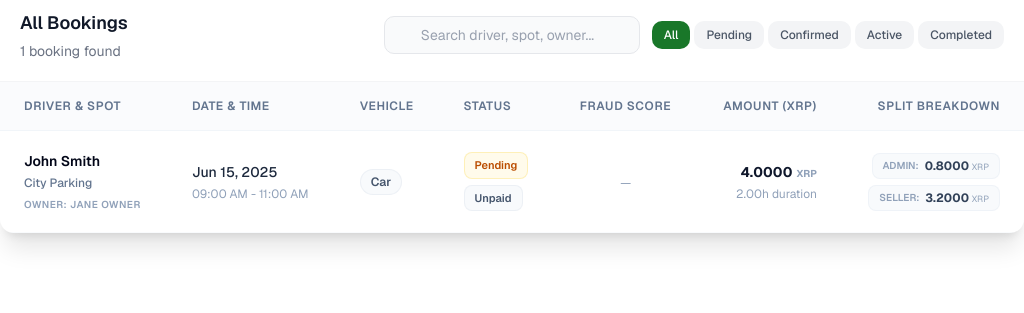
Test case: BookingTable Component › Empty State › shows filter message when search active
Expected: the text "John Smith" is shown, [24, 152, 100, 170]
Type "nonexistent999" into the field with placeholder "Search driver, spot, owner..." at (512, 35), box [384, 16, 640, 54]
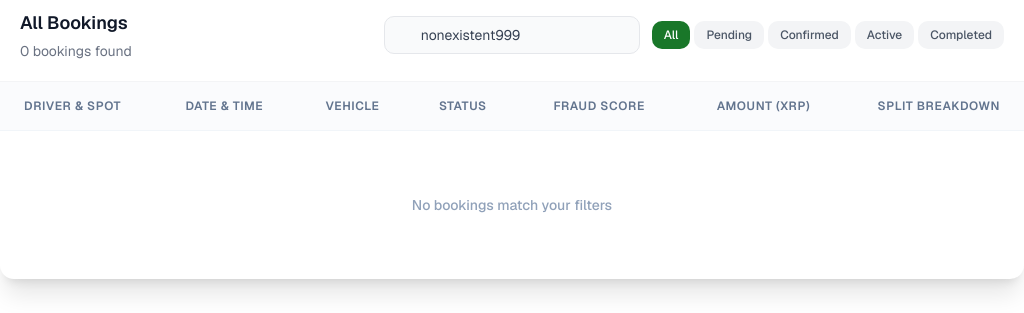
Expected: the text "No bookings match your filters" is shown, [0, 130, 1023, 279]
